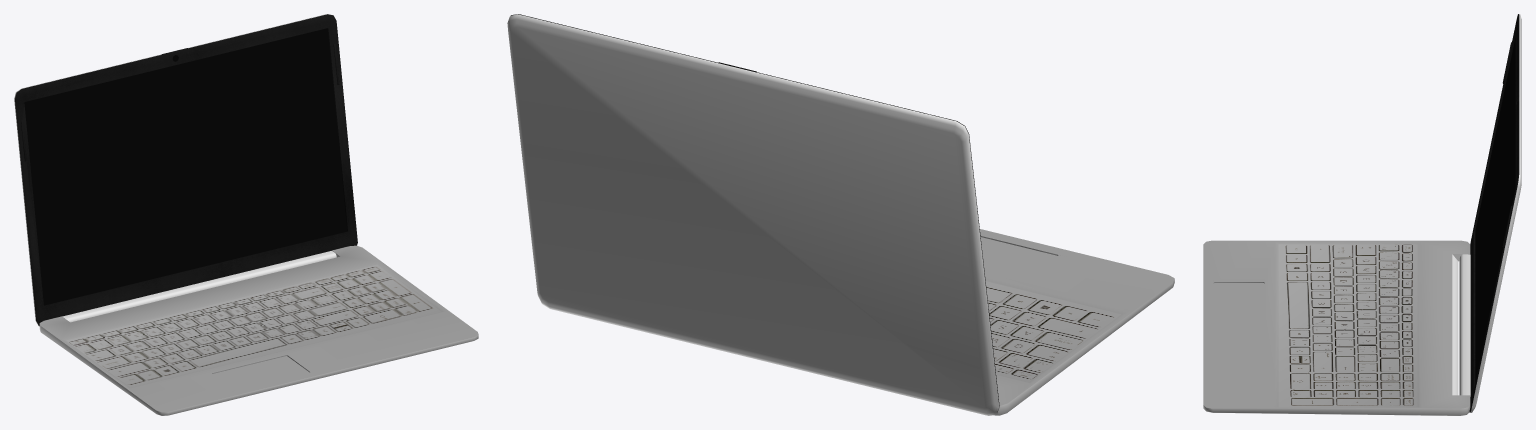
The model's file is Laptop.fbx.
3 views of the same model, side by side, from view 1: azimuth 30°, elevation 25°; view 2: azimuth 150°, elevation 25°; view 3: azimuth 270°, elevation 25° (orthographic). The views are drawn at different scales.
Visible parts, largest first — view 1: Material.002; view 2: Material.002; view 3: Material.002.
Part boxes in pixels (x1,y1,x2,y2): Material.002: [14, 14, 478, 415]; Material.002: [507, 14, 1174, 415]; Material.002: [1203, 14, 1521, 415].
Size of the model in its own units: 728 by 482 by 581.
